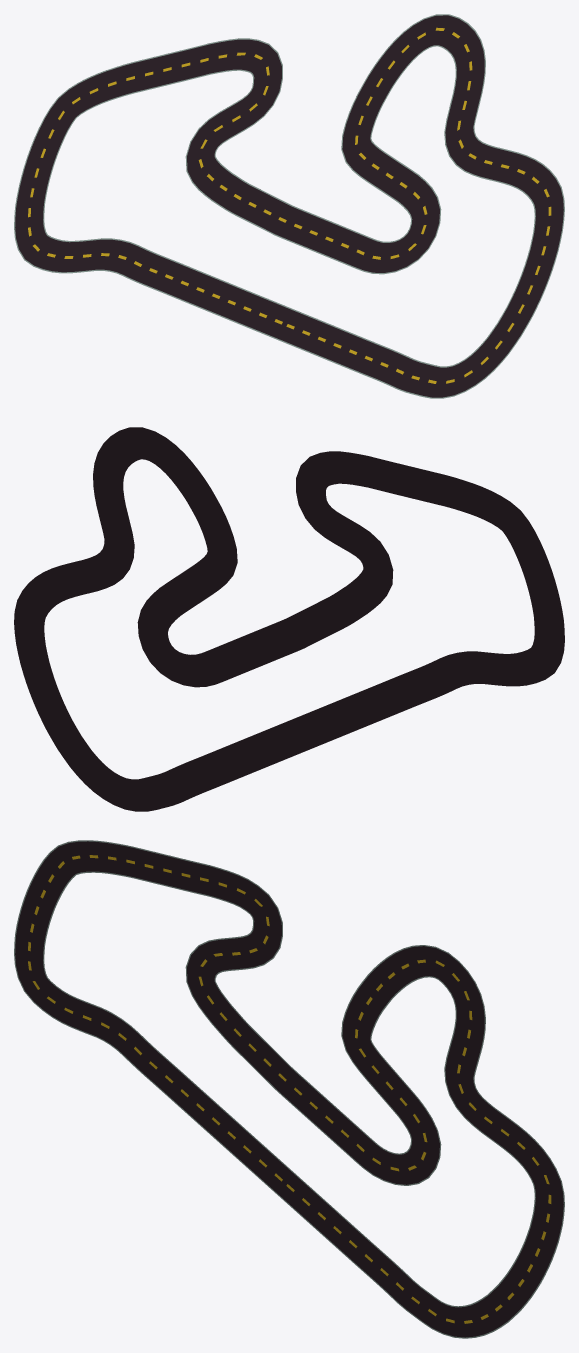
The model's file is track.obj.
3 views of the same model, one above another, from view 1: azimuth 30°, elevation 25°; view 2: azimuth 150°, elevation 25°; view 3: azimuth 330°, elevation 25° (orthographic).
Bounding box in the file's own units: 19.42 × 13.91 × 0.002.
